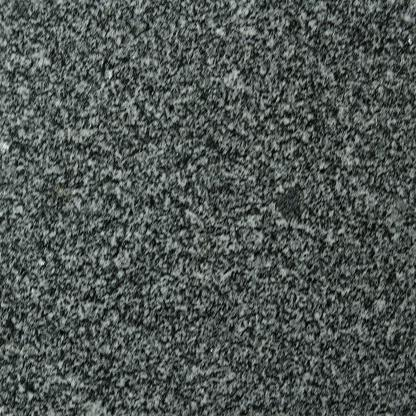Igneous_Diorite: (2, 3, 416, 416)
